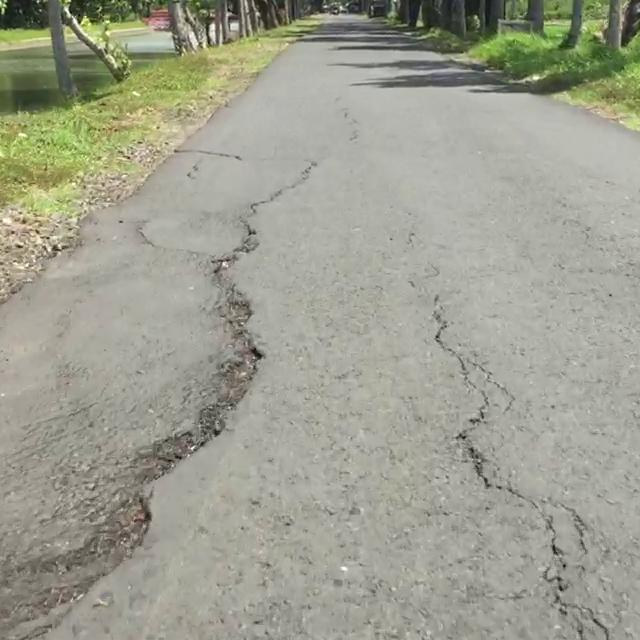retak_memanjang: (0, 142, 320, 640), (415, 295, 625, 640)
